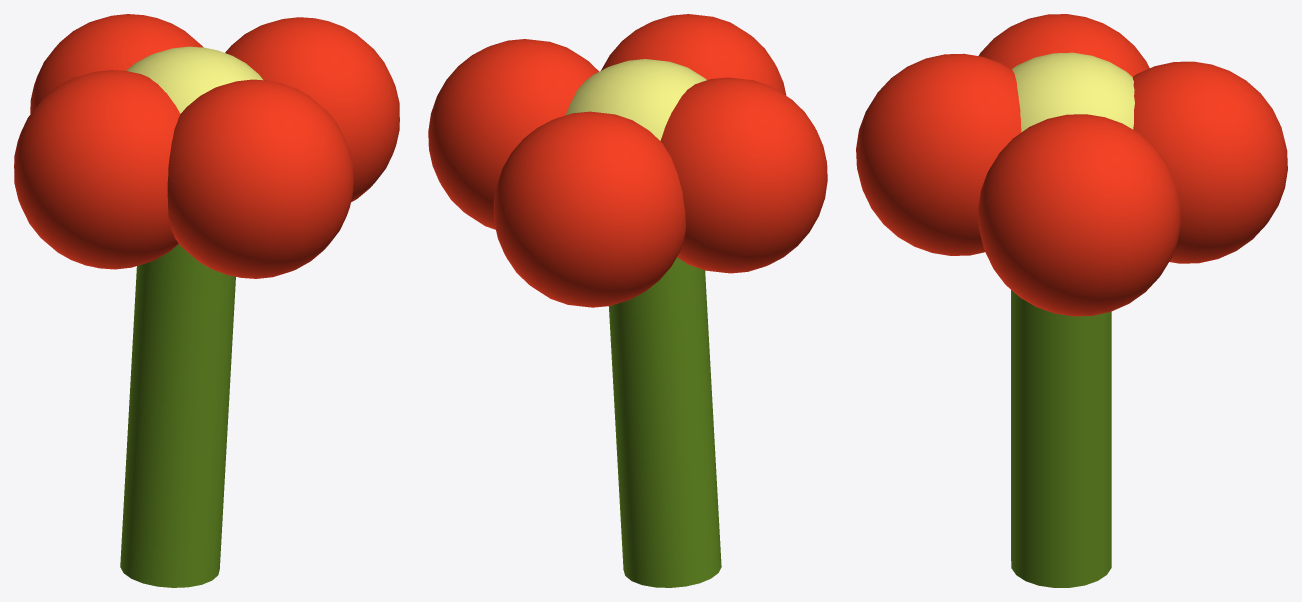
Rendered from MyFlower.glb.
3 views of the same model, side by side, from view 1: azimuth 30°, elevation 25°; view 2: azimuth 150°, elevation 25°; view 3: azimuth 270°, elevation 25° (orthographic). The views are drawn at different scales.
Visible parts, largest first — view 1: Cylinder, Sphere (4), Sphere (1), Sphere (3), Sphere (2), Sphere; view 2: Cylinder, Sphere (2), Sphere (1), Sphere (3), Sphere (4), Sphere; view 3: Sphere (3), Cylinder, Sphere (4), Sphere (2), Sphere, Sphere (1).
Part boxes in pixels (x1=…): Cylinder: x1=120, y1=244, x2=235, y2=587; Sphere (4): x1=167, y1=79, x2=353, y2=278; Sphere (1): x1=14, y1=70, x2=180, y2=269; Sphere (3): x1=225, y1=17, x2=399, y2=202; Sphere (2): x1=30, y1=14, x2=203, y2=113; Sphere: x1=126, y1=46, x2=262, y2=113; Cylinder: x1=609, y1=257, x2=721, y2=587; Sphere (2): x1=493, y1=111, x2=685, y2=307; Sphere (1): x1=660, y1=77, x2=827, y2=273; Sphere (3): x1=428, y1=39, x2=598, y2=229; Sphere (4): x1=601, y1=14, x2=786, y2=95; Sphere: x1=566, y1=59, x2=706, y2=140; Sphere (3): x1=978, y1=114, x2=1180, y2=316; Cylinder: x1=1011, y1=290, x2=1111, y2=587; Sphere (4): x1=856, y1=53, x2=1021, y2=255; Sphere (2): x1=1133, y1=61, x2=1287, y2=263; Sphere: x1=1011, y1=52, x2=1134, y2=132; Sphere (1): x1=978, y1=14, x2=1149, y2=76.
Bounding box in the file's own units: 2.14 × 2.82 × 2.12.
